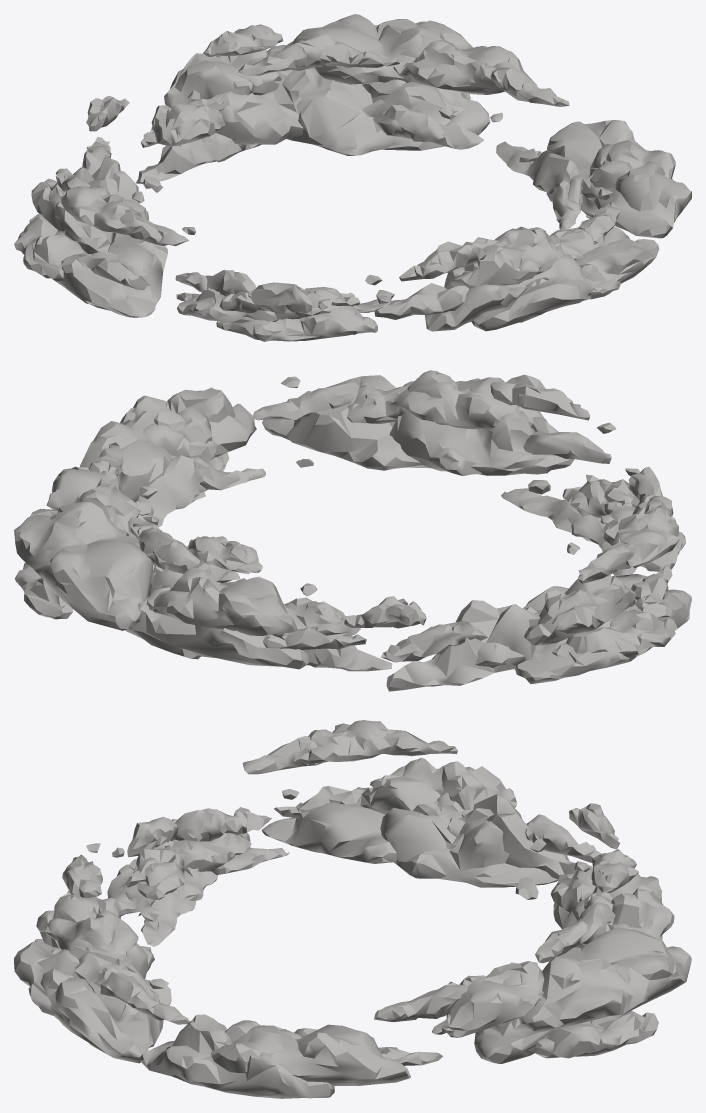
Rendered from jungle_SM_Env_Cloud_Ring_02.gltf.
3 renders of one model, top to bottom at view 1: azimuth 30°, elevation 25°; view 2: azimuth 150°, elevation 25°; view 3: azimuth 270°, elevation 25°, orthographic. The views are drawn at different scales.
Visible parts, largest first — view 1: SM_Env_Cloud_Ring_02; view 2: SM_Env_Cloud_Ring_02; view 3: SM_Env_Cloud_Ring_02.
Boxes of the visible parts, <box> form: SM_Env_Cloud_Ring_02: <box>14,14,691,341</box>; SM_Env_Cloud_Ring_02: <box>14,370,691,691</box>; SM_Env_Cloud_Ring_02: <box>14,720,691,1098</box>.
Bounding box in the file's own units: 310 × 54.42 × 295.
Materials: 1 (1 with a texture image).
